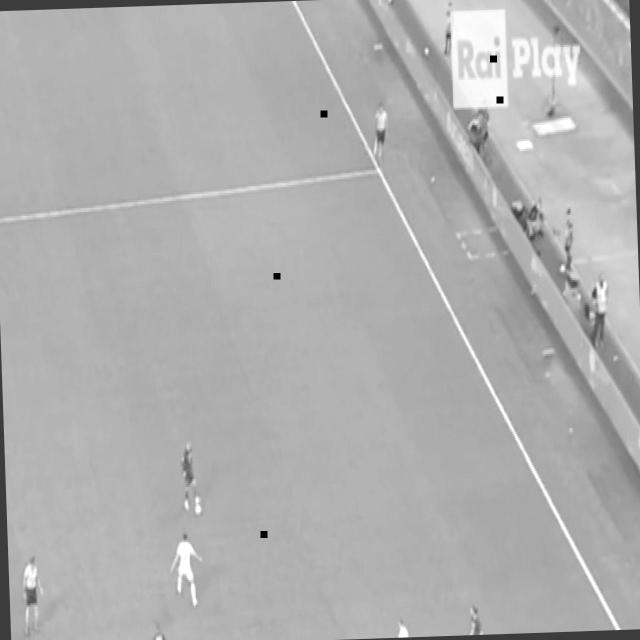ball: (194, 502, 206, 520)
player-white: (166, 528, 206, 612), (176, 435, 204, 519), (19, 552, 46, 638), (370, 95, 392, 169), (462, 599, 487, 635), (145, 615, 173, 640), (388, 611, 410, 638)
